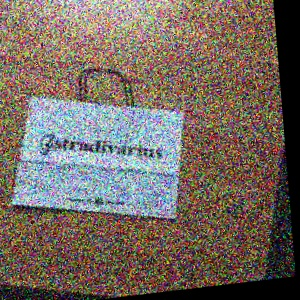stradivarius: (135, 38, 205, 177)
